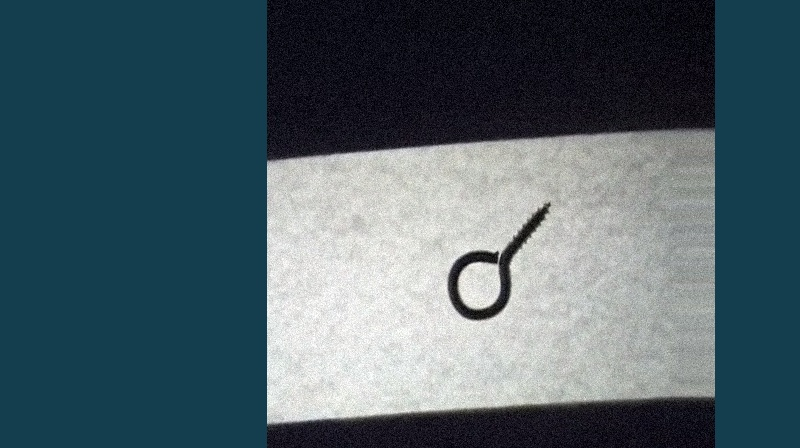O001: (443, 192, 550, 326)
